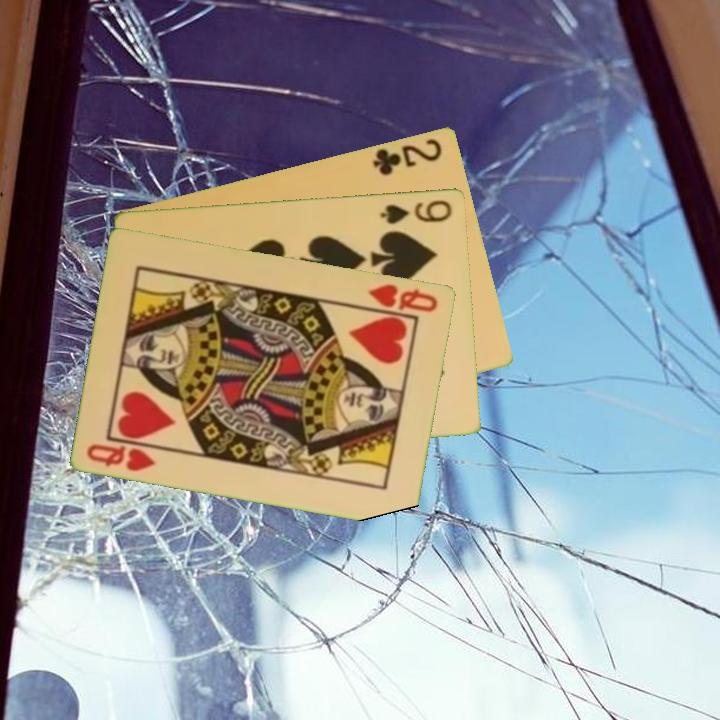2c: (369, 134, 445, 178)
9s: (377, 196, 455, 227)
Qh: (365, 280, 441, 315), (83, 440, 159, 474)
